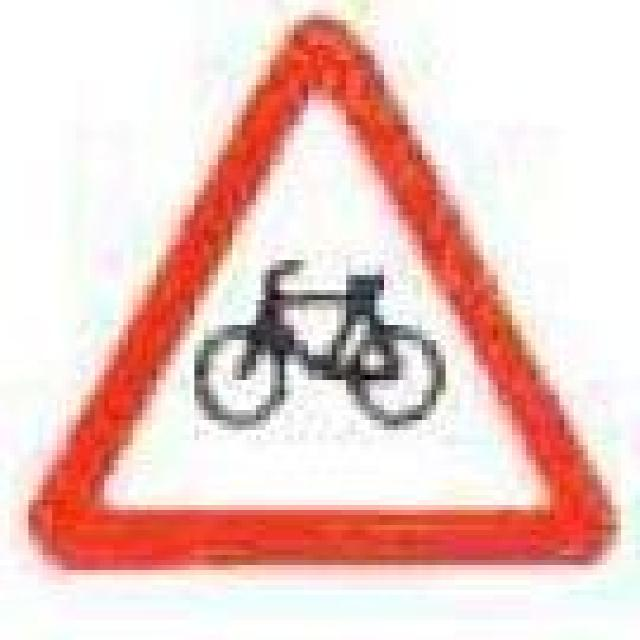cycle_crossing: (0, 0, 635, 580)
